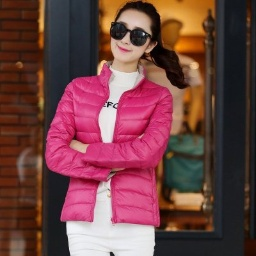face: (107, 2, 186, 89)
